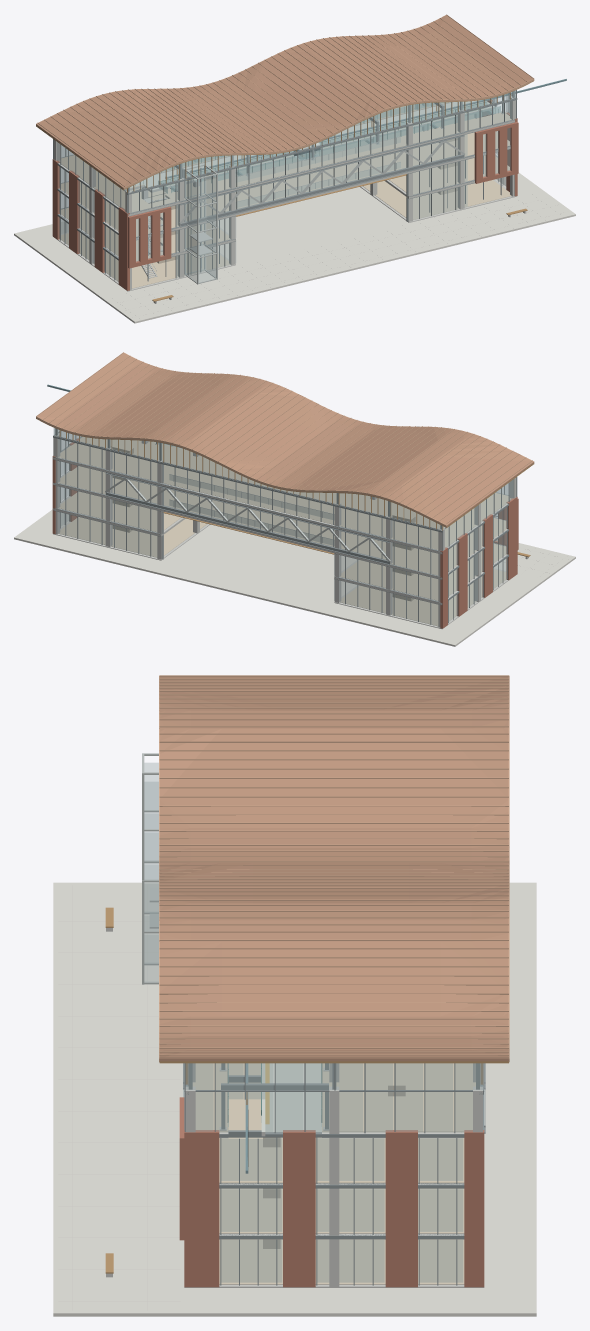
The model's file is T1_Xinhua_Gate_V04.glb.
3 views of the same model, one above another, from view 1: azimuth 30°, elevation 25°; view 2: azimuth 150°, elevation 25°; view 3: azimuth 270°, elevation 25° (orthographic). The views are drawn at different scales.
Visible parts, largest first — view 1: COPPER_WAVE_ROOF_0001, DISPLAY_PLINTH_0001, FLOOR_FINISH_0005, FLOOR_FINISH_0006, FLOOR_FINISH_0002, FRONT_BRICK_PIERS_0002, FRONT_BRICK_PIERS_0001, STATION_PLATFORM_FINISH_0001, FLOOR_FINISH_0001, STATION_OUTER_GUARD_0001, FLOOR_FINISH_0004, FLOOR_FINISH_0003 (+30 smaller); view 2: COPPER_WAVE_ROOF_0001, DISPLAY_PLINTH_0001, FLOOR_FINISH_0006, FLOOR_FINISH_0005, FLOOR_FINISH_0002, FLOOR_FINISH_0001, FLOOR_FINISH_0003, FLOOR_FINISH_0004, BACK_ROOF_EDGE_0001, FLOOR_SLABS_0006_transfer, FLOOR_SLABS_0005_transfer, SIDE_BRICK_WALLS_0001 (+22 smaller); view 3: COPPER_WAVE_ROOF_0001, DISPLAY_PLINTH_0001, FLOOR_FINISH_0006, FLOOR_FINISH_0005, FLOOR_FINISH_0002, FLOOR_FINISH_0004, SIDE_BRICK_WALLS_0005, SIDE_BRICK_WALLS_0006, SIDE_BRICK_WALLS_0007, STATION_PLATFORM_FINISH_0001, SIDE_BRICK_WALLS_0008, SIDE_GLAZING_0010 (+22 smaller).
Boxes of the visible parts, left/top/right/bottom form: COPPER_WAVE_ROOF_0001: left=36, top=15, right=532, bottom=188; DISPLAY_PLINTH_0001: left=14, top=172, right=575, bottom=323; FLOOR_FINISH_0005: left=59, top=115, right=509, bottom=236; FLOOR_FINISH_0006: left=59, top=102, right=511, bottom=212; FLOOR_FINISH_0002: left=363, top=180, right=511, bottom=219; FRONT_BRICK_PIERS_0002: left=474, top=122, right=518, bottom=183; FRONT_BRICK_PIERS_0001: left=128, top=206, right=171, bottom=268; STATION_PLATFORM_FINISH_0001: left=140, top=100, right=494, bottom=190; FLOOR_FINISH_0001: left=61, top=233, right=229, bottom=288; STATION_OUTER_GUARD_0001: left=171, top=106, right=500, bottom=191; FLOOR_FINISH_0004: left=389, top=155, right=509, bottom=194; FLOOR_FINISH_0003: left=61, top=207, right=229, bottom=261; COPPER_WAVE_ROOF_0001: left=37, top=353, right=534, bottom=526; DISPLAY_PLINTH_0001: left=14, top=509, right=575, bottom=646; FLOOR_FINISH_0006: left=58, top=437, right=510, bottom=549; FLOOR_FINISH_0005: left=58, top=466, right=506, bottom=575; FLOOR_FINISH_0002: left=59, top=517, right=207, bottom=557; FLOOR_FINISH_0001: left=340, top=569, right=506, bottom=626; FLOOR_FINISH_0003: left=340, top=544, right=506, bottom=600; FLOOR_FINISH_0004: left=59, top=491, right=181, bottom=531; BACK_ROOF_EDGE_0001: left=36, top=416, right=446, bottom=527; FLOOR_SLABS_0006_transfer: left=53, top=452, right=508, bottom=553; FLOOR_SLABS_0005_transfer: left=53, top=471, right=507, bottom=579; SIDE_BRICK_WALLS_0001: left=506, top=497, right=517, bottom=580; COPPER_WAVE_ROOF_0001: left=159, top=676, right=508, bottom=1061; DISPLAY_PLINTH_0001: left=53, top=882, right=536, bottom=1316; FLOOR_FINISH_0006: left=192, top=1063, right=475, bottom=1132; FLOOR_FINISH_0005: left=219, top=1063, right=464, bottom=1183; FLOOR_FINISH_0002: left=219, top=1239, right=464, bottom=1284; FLOOR_FINISH_0004: left=219, top=1188, right=464, bottom=1233; SIDE_BRICK_WALLS_0005: left=184, top=1130, right=219, bottom=1287; SIDE_BRICK_WALLS_0006: left=283, top=1130, right=315, bottom=1287; SIDE_BRICK_WALLS_0007: left=385, top=1130, right=417, bottom=1287; STATION_PLATFORM_FINISH_0001: left=261, top=1063, right=321, bottom=1132; SIDE_BRICK_WALLS_0008: left=464, top=1130, right=484, bottom=1287; SIDE_GLAZING_0010: left=221, top=1240, right=281, bottom=1282.
Size of the model in its own units: 88.8 by 22.77 by 38.7.
